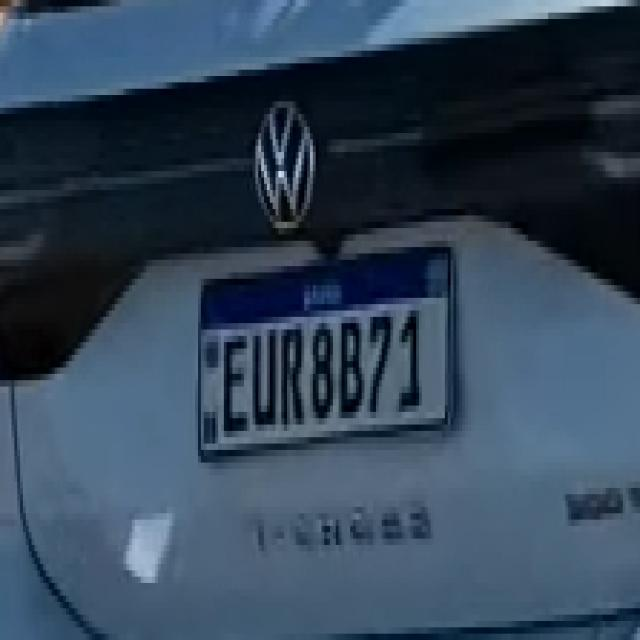Placa_mercosul_carro: (198, 246, 454, 467)
